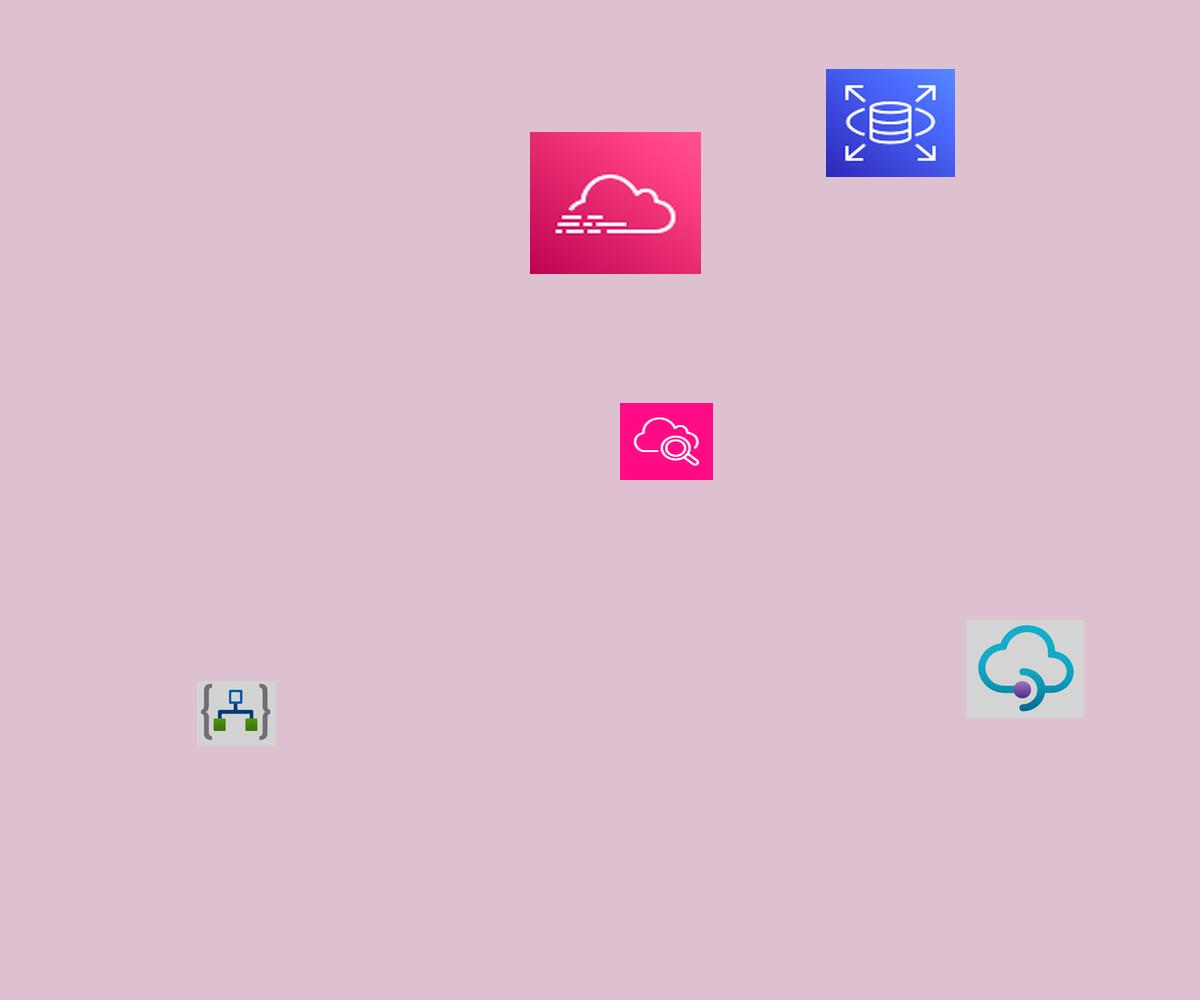AWS-CloudTrail: (530, 132, 701, 274)
AWS-CloudWatch: (620, 403, 713, 480)
AWS-RDS: (826, 69, 955, 177)
Azure_api_gateway: (966, 620, 1084, 718)
Azure_integration-204-Logic-Apps: (197, 681, 276, 746)
